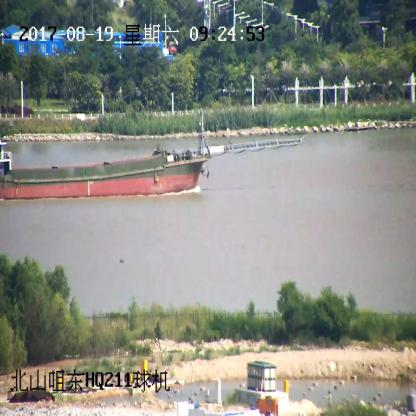Bulk Carrier: (0, 109, 301, 200)
